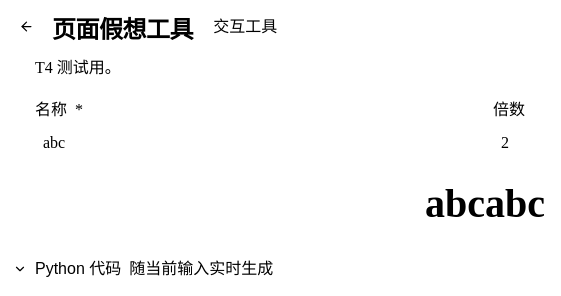
it: InteractiveToolPage › required 置空 → 结果区显示 error 引导
This screenshot has width=561, height=296.
Clear the field labelled "名称 *" at (264, 143), box [35,126,493,160]
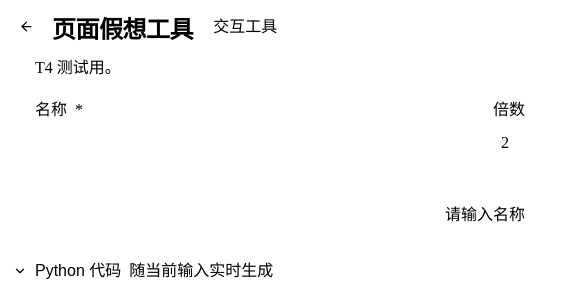
Expected: the text with test id "tool-error" reads "请输入名称", [445,206,525,223]
